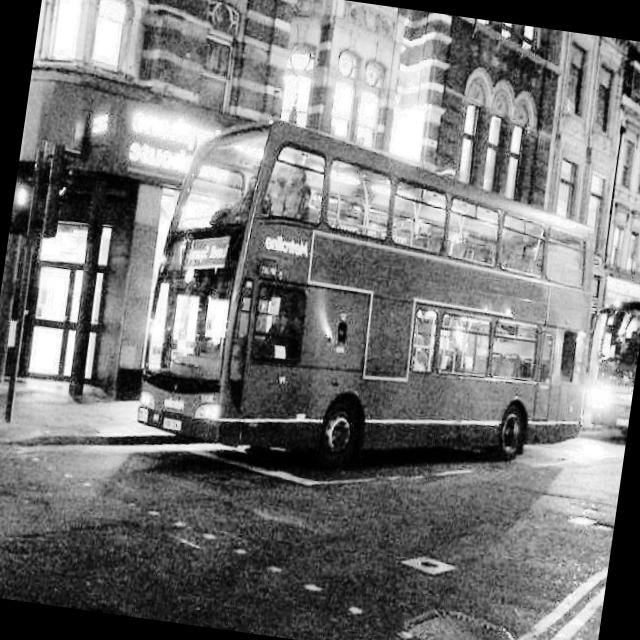Bus: (100, 101, 624, 522), (557, 270, 640, 465)
